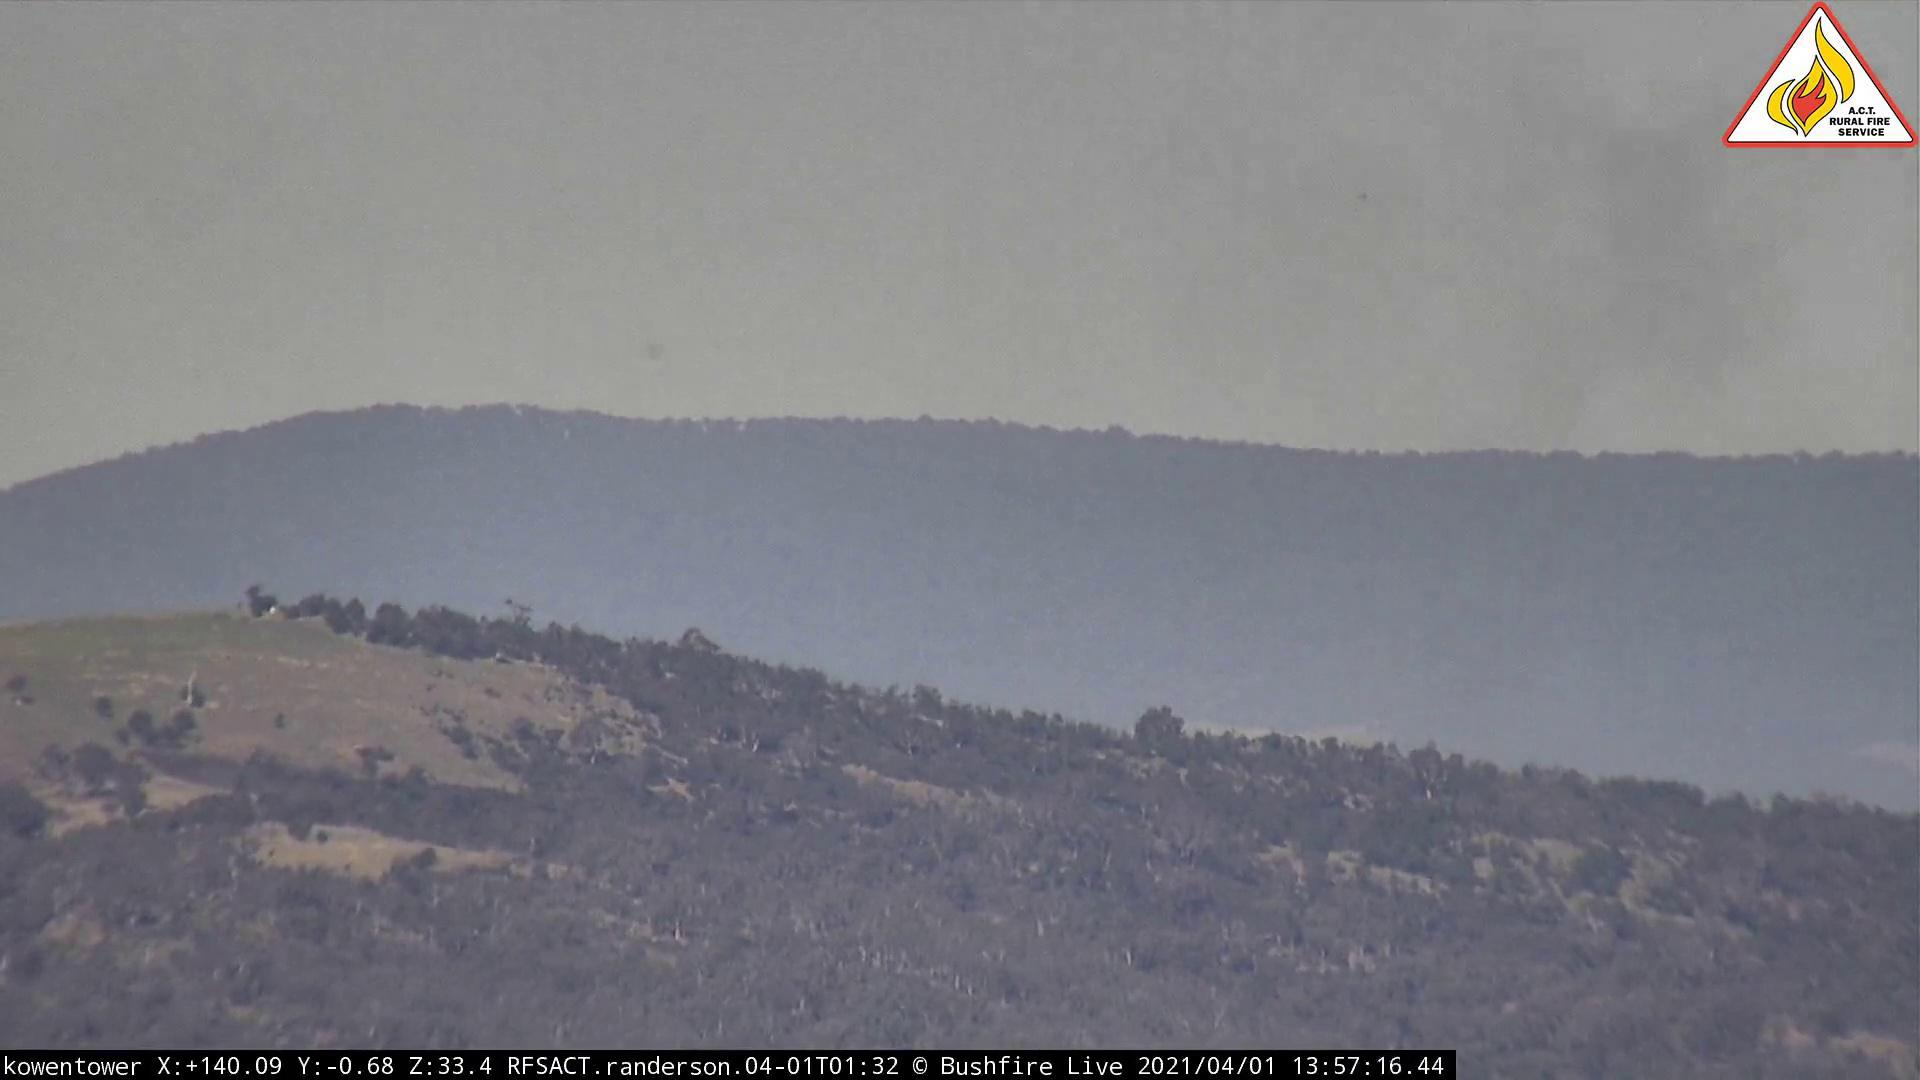Smoke: (1211, 169, 1813, 516)
